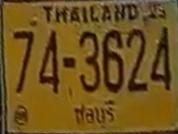2: (125, 28, 148, 93)
3: (78, 30, 99, 91)
4: (38, 29, 59, 92), (150, 26, 170, 90)
6: (102, 30, 123, 92)
7: (13, 31, 34, 90)
CBI: (70, 99, 117, 126)
